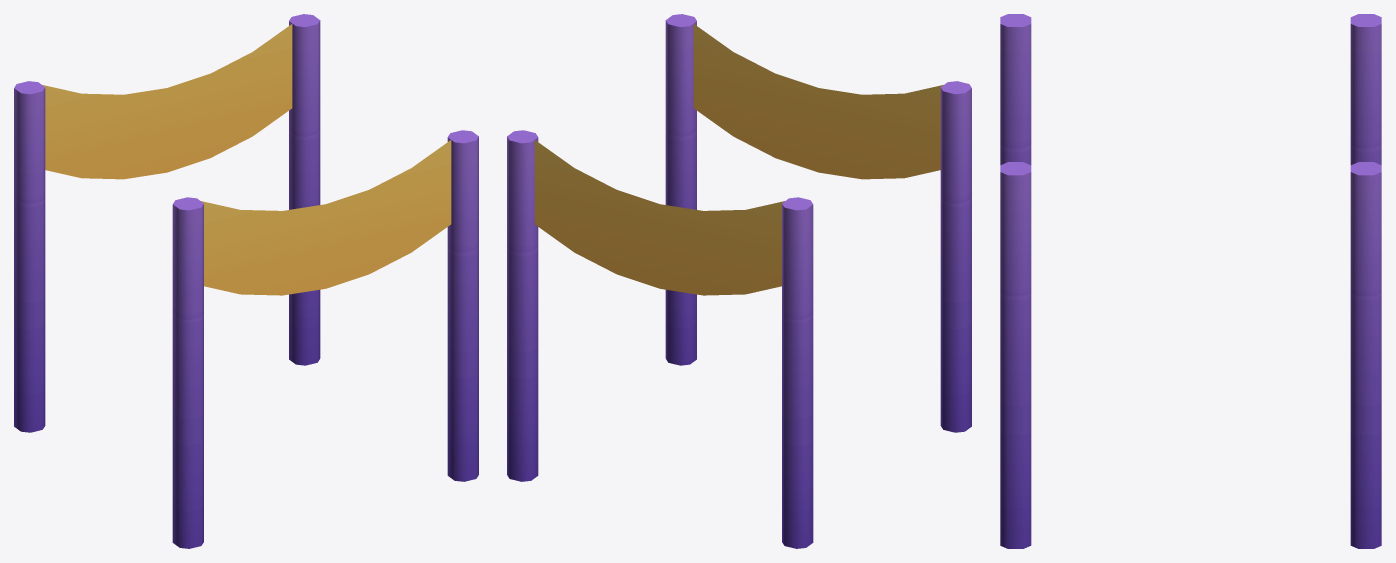
File: banner-hanging-double-high.glb
3 renders of one model, left to right at view 1: azimuth 30°, elevation 25°; view 2: azimuth 150°, elevation 25°; view 3: azimuth 270°, elevation 25°, orthographic. The views are drawn at different scales.
Visible parts, largest first — view 1: banner-hanging-double-high; view 2: banner-hanging-double-high; view 3: banner-hanging-double-high.
Part boxes in pixels (left/top/right/bottom): banner-hanging-double-high: left=14, top=14, right=478, bottom=548; banner-hanging-double-high: left=507, top=14, right=971, bottom=548; banner-hanging-double-high: left=1000, top=14, right=1381, bottom=548.
Size of the model in its own units: 0.925 by 1 by 0.925.
Materials: 1 (1 with a texture image).
